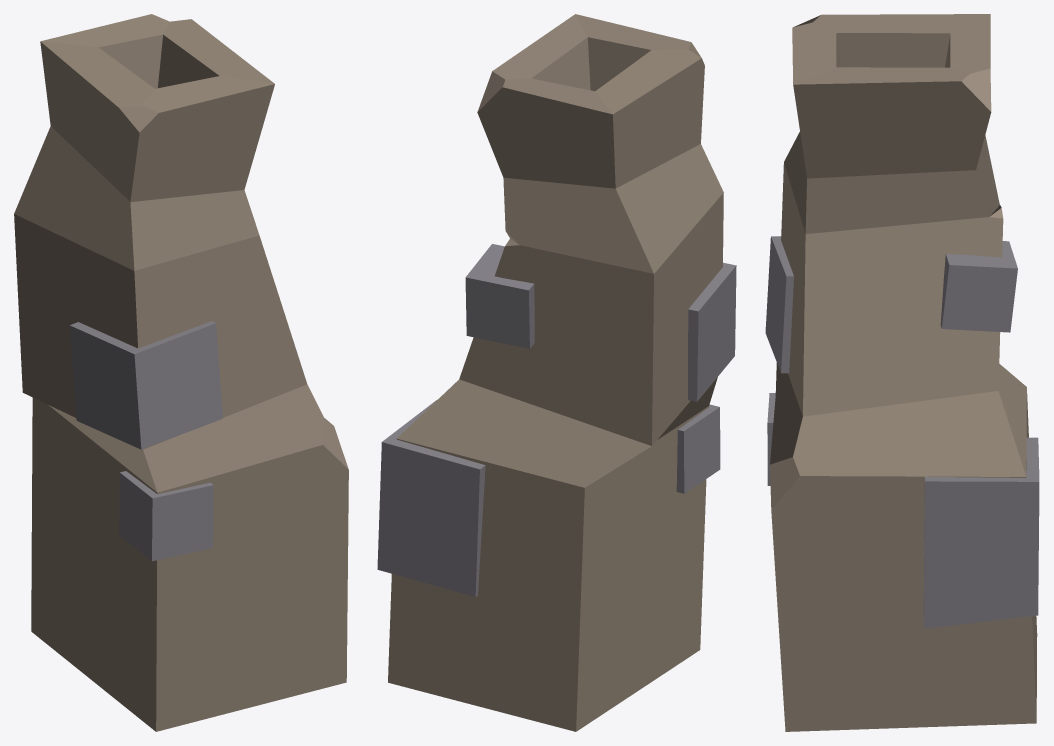
The model's file is Chimney.fbx.
The picture shows the model from 3 angles, left to right: view 1: azimuth 30°, elevation 25°; view 2: azimuth 150°, elevation 25°; view 3: azimuth 270°, elevation 25°; orthographic projection.
Visible parts, largest first — view 1: Chimney; view 2: Chimney; view 3: Chimney.
Boxes of the visible parts, box(x1,y1,x2,y2) form: Chimney: box(14, 14, 348, 731); Chimney: box(377, 14, 736, 731); Chimney: box(765, 14, 1039, 731).
Size of the model in its own units: 119 by 282 by 113.
